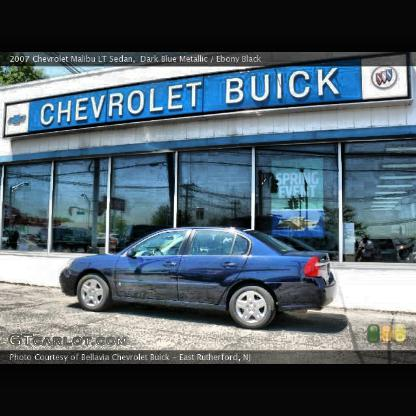Chevrolet Malibu Sedan 2007: (62, 228, 336, 331)
